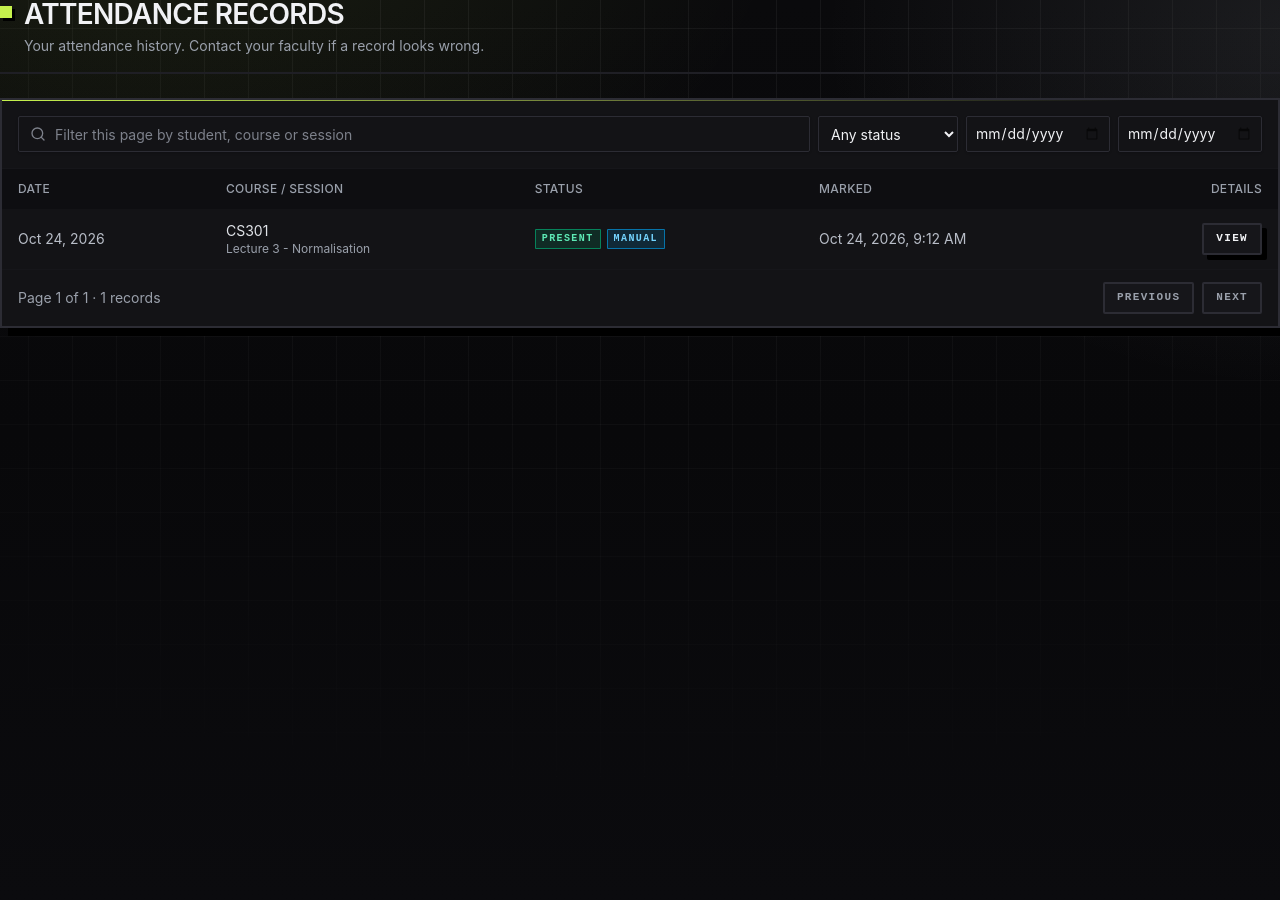
it: student attendance page › shows only the record details and the audit history
Expected: the text "CS301" is shown, [226,222,268,239]
Expected: the text "Asha Rao" is not shown
Click the button "View" at (1232, 239), box [1202,223,1262,255]
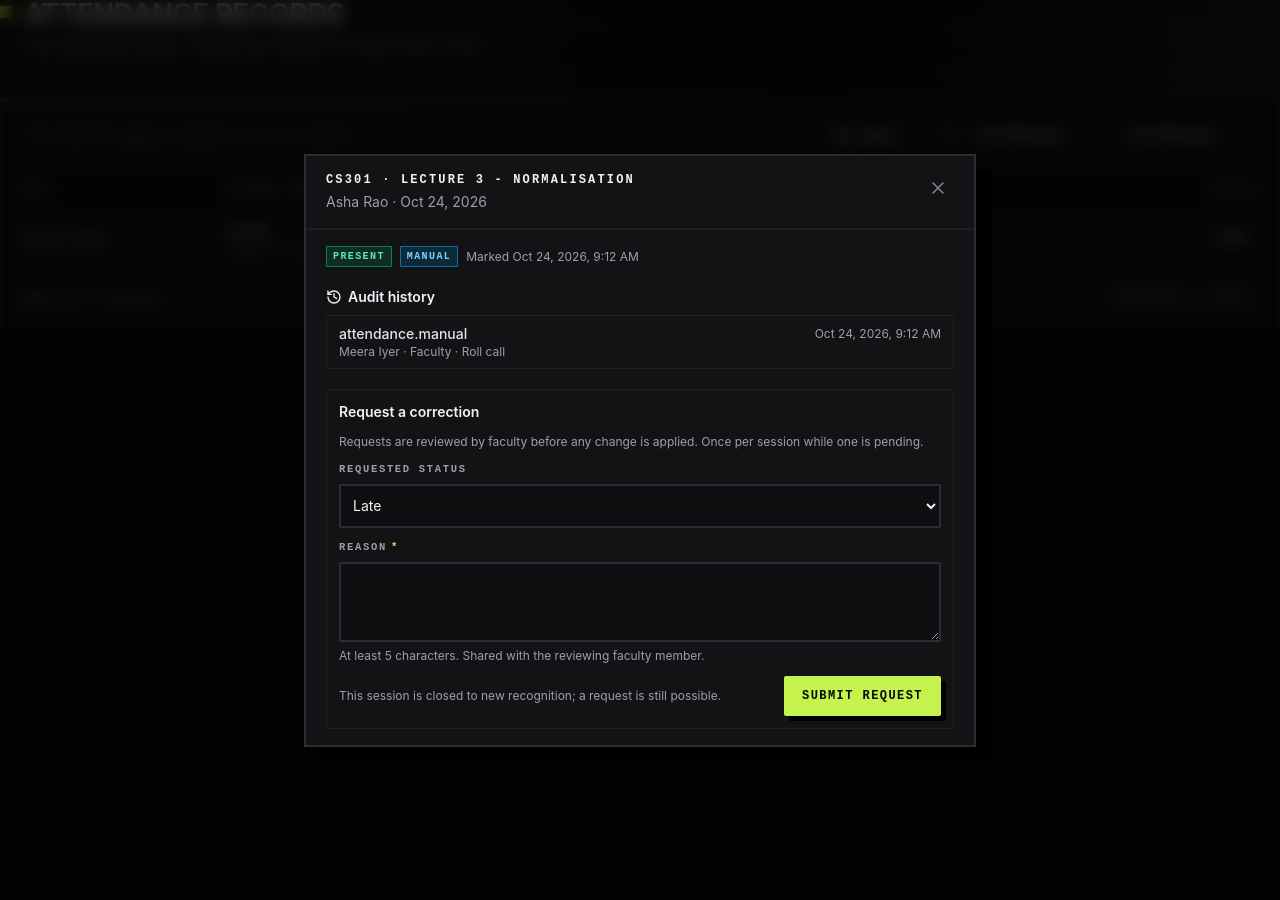
Expected: the heading "Audit history" is shown, [326,288,435,305]
Expected: the text "Meera Iyer · Faculty · Roll call" is shown, [339,344,505,359]
